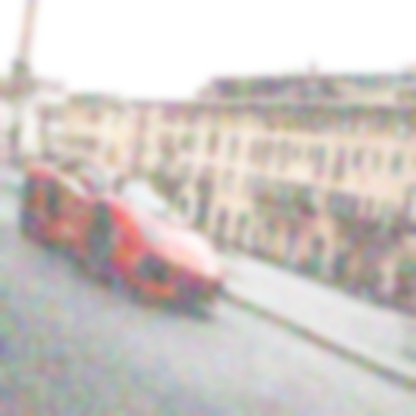Vehicle: (19, 160, 225, 310)
